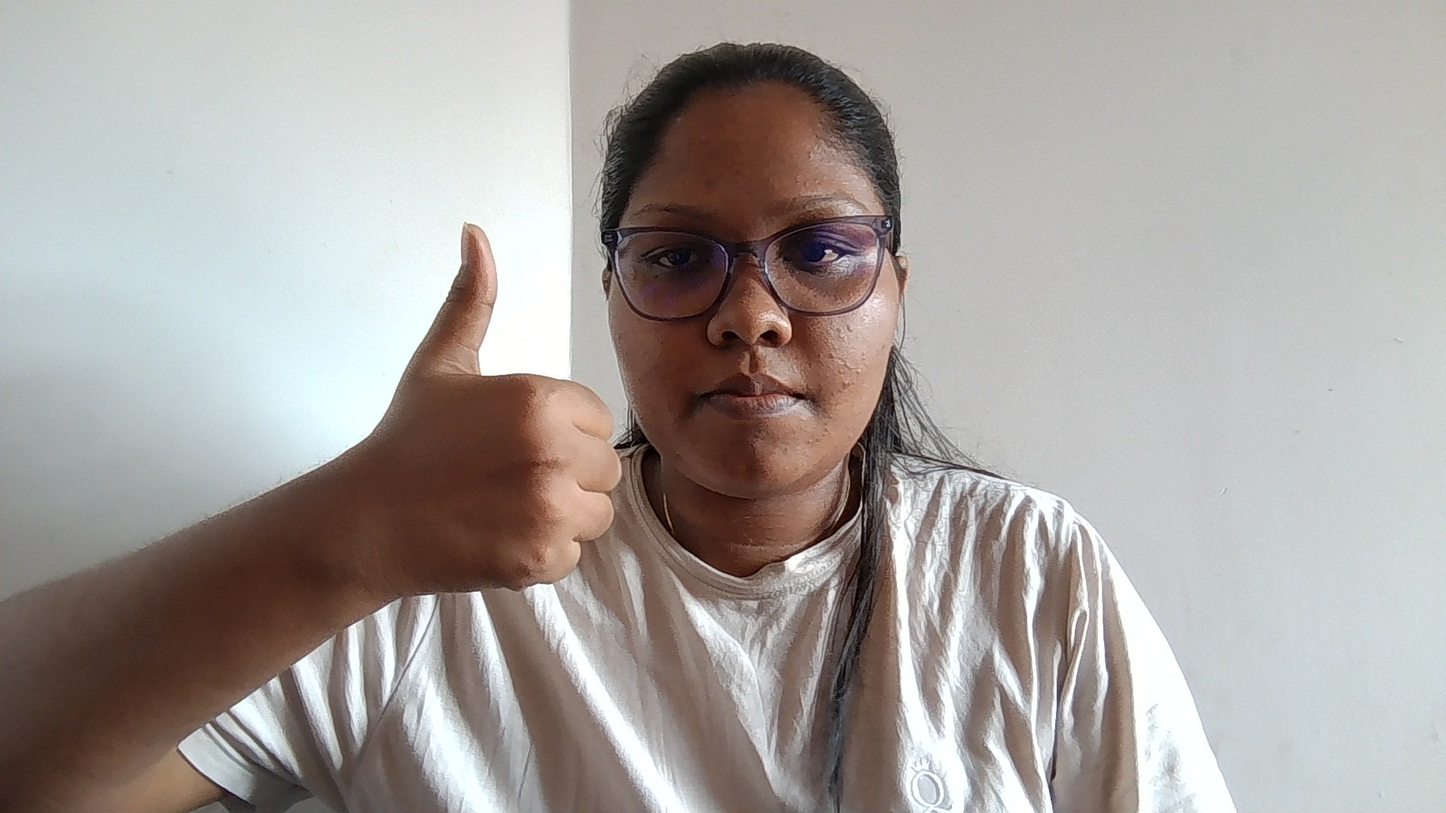Thumbs Up: (346, 151, 701, 678)
